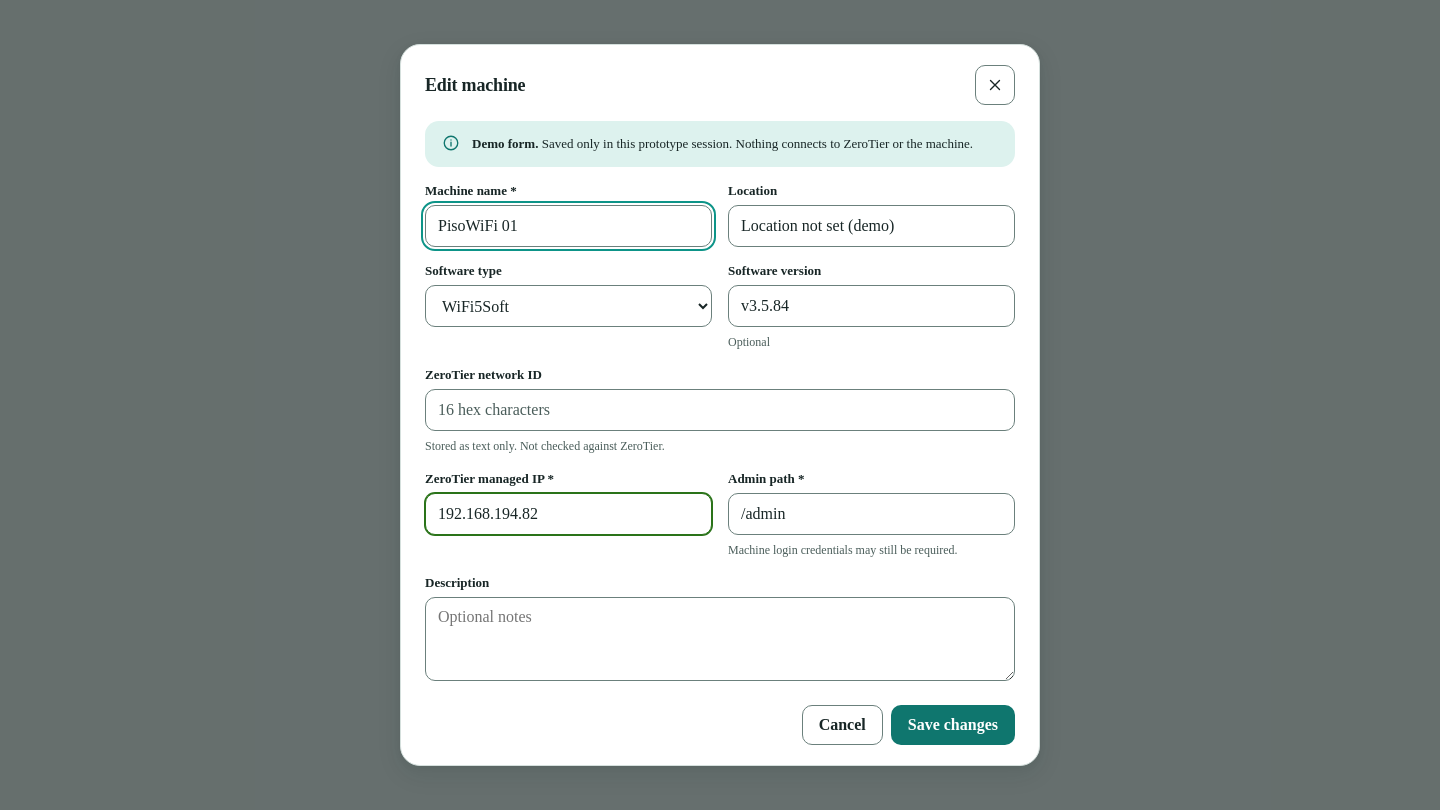
it: Add / Edit machine dialog › edit prefills values, saves changes and keeps the machine's stored tags
expect the dialog named "Edit machine" is shown: met, box [400,44,1040,766]
expect the field labelled "Machine name *" holds "PisoWiFi 01": met, box [425,205,712,247]
Replace the text in the field labelled "Location" with "Main store" at (872, 226), box [728,205,1015,247]
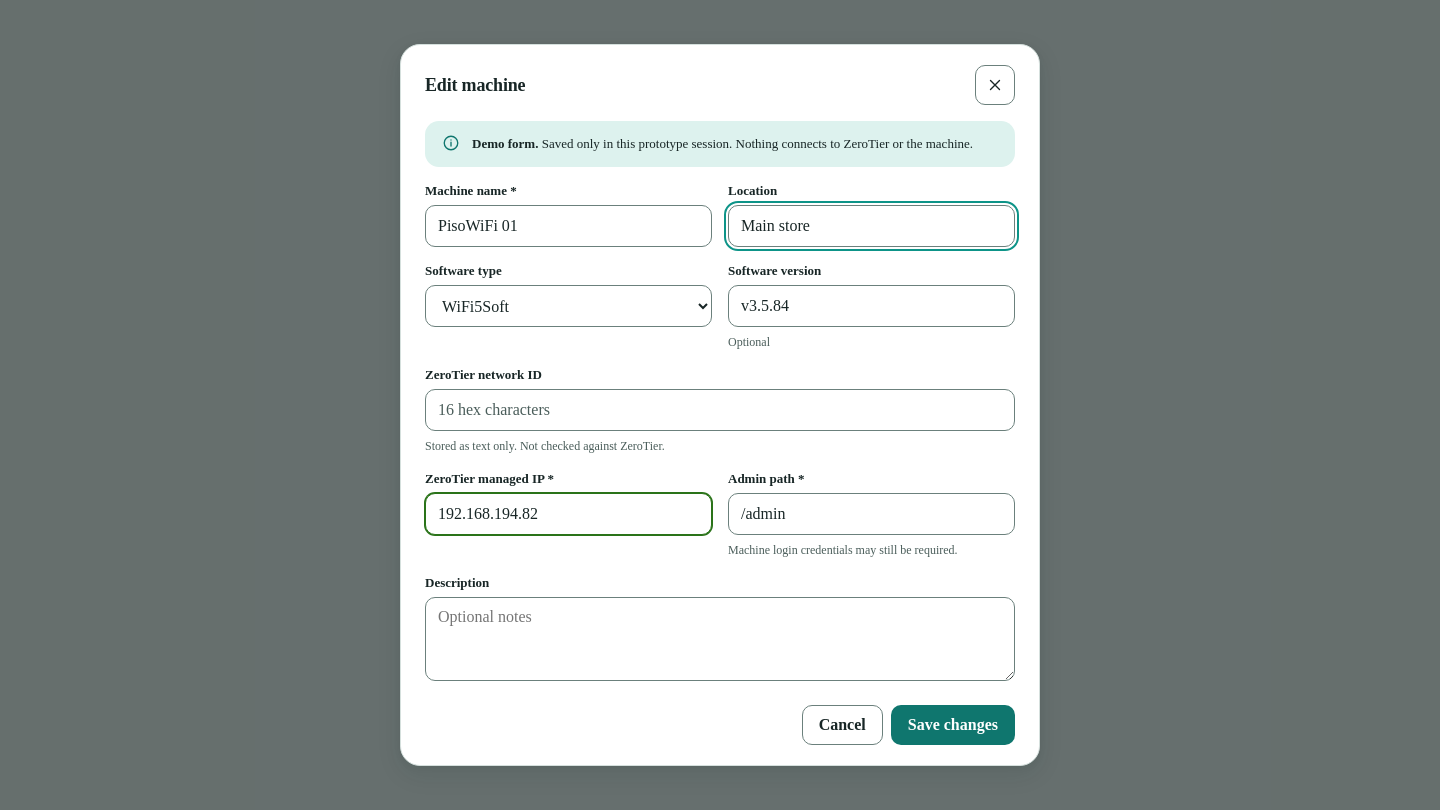
Click the button "Save changes" at (953, 725), box [891,705,1015,745]
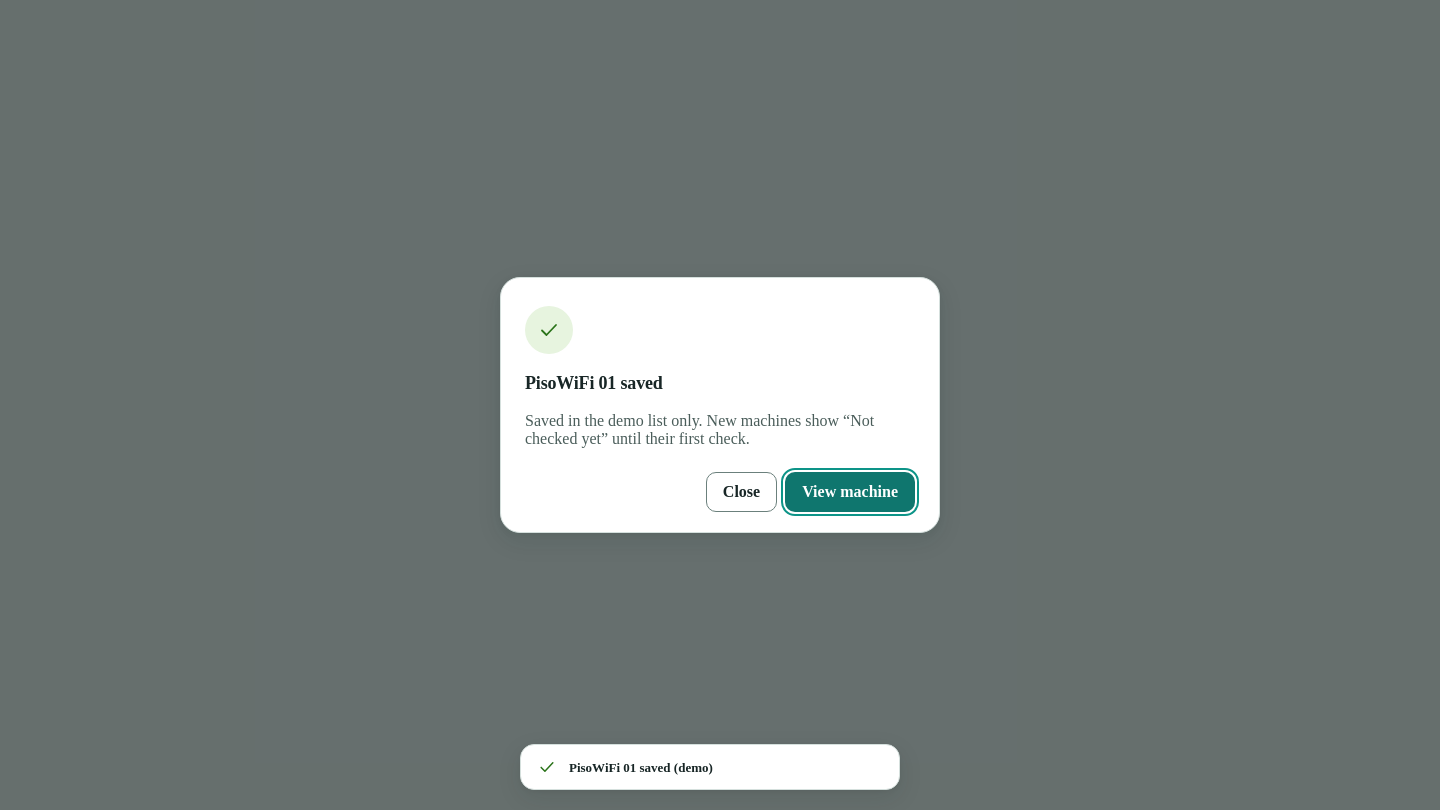
expect the heading "PisoWiFi 01 saved" is shown: met, box [525,370,663,396]
